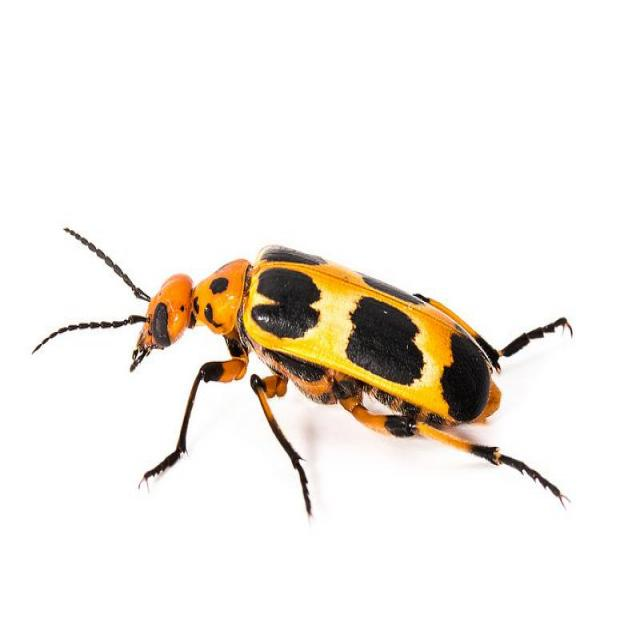BlisterBeetle-Adult-: (29, 178, 583, 528)
